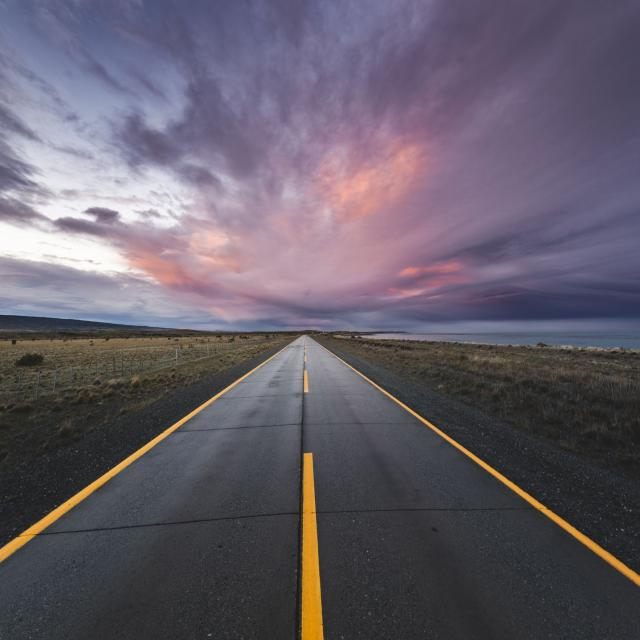Clean road: (0, 332, 640, 640)
